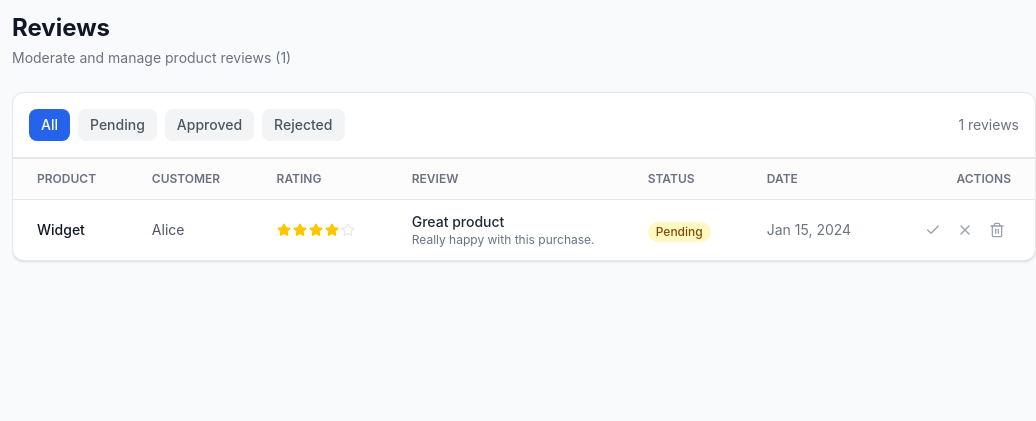
ReviewsListPage › deletes a review and removes it from the list
Expected: the text "Widget" is shown, [13, 200, 128, 260]
Click the button titled "Delete" at [997, 230], box [983, 216, 1011, 244]
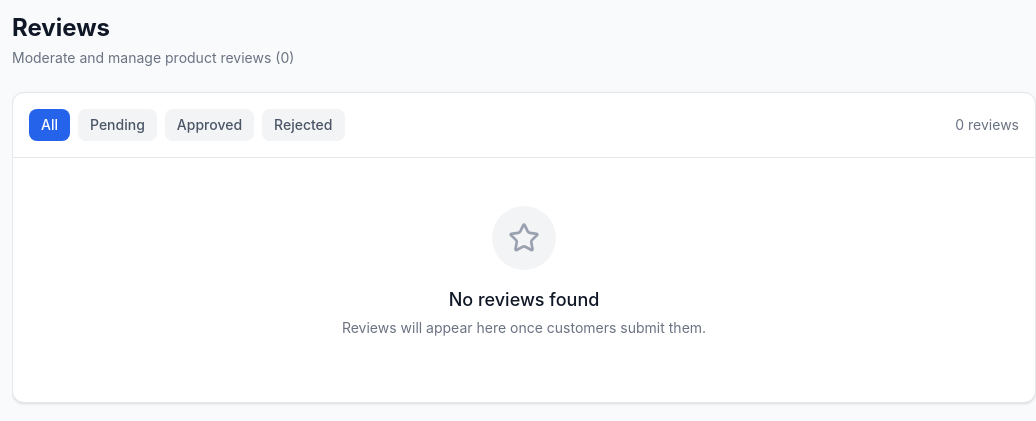
Result: the text "Widget" is gone
